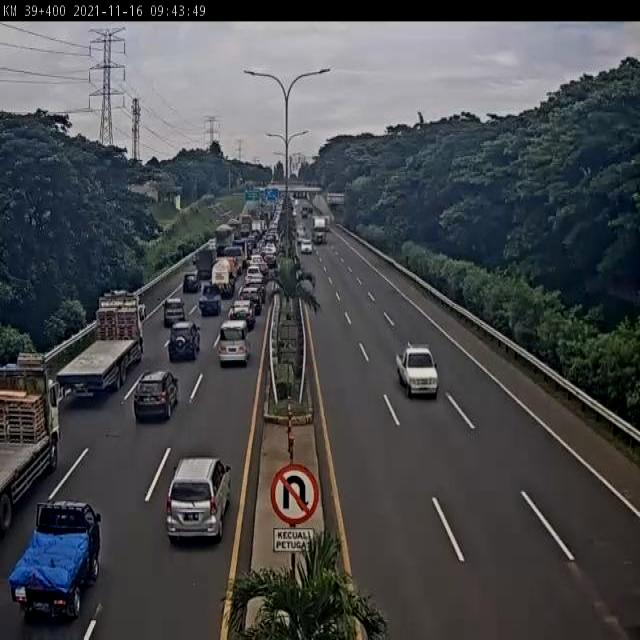Bus: (218, 321, 250, 369)
Car: (163, 454, 233, 544), (130, 370, 180, 424), (396, 342, 440, 402), (169, 320, 201, 364), (199, 284, 222, 320), (228, 300, 256, 328), (163, 296, 186, 326), (240, 287, 262, 314), (245, 267, 264, 286), (264, 243, 278, 266), (182, 274, 198, 293), (249, 254, 265, 273), (300, 239, 314, 256), (298, 227, 308, 241)
Truck: (7, 499, 107, 622), (0, 359, 59, 533), (55, 292, 147, 400), (210, 258, 238, 300), (193, 250, 218, 278), (213, 224, 234, 250), (311, 217, 329, 245), (238, 215, 253, 239), (228, 220, 241, 240), (302, 206, 308, 220)
